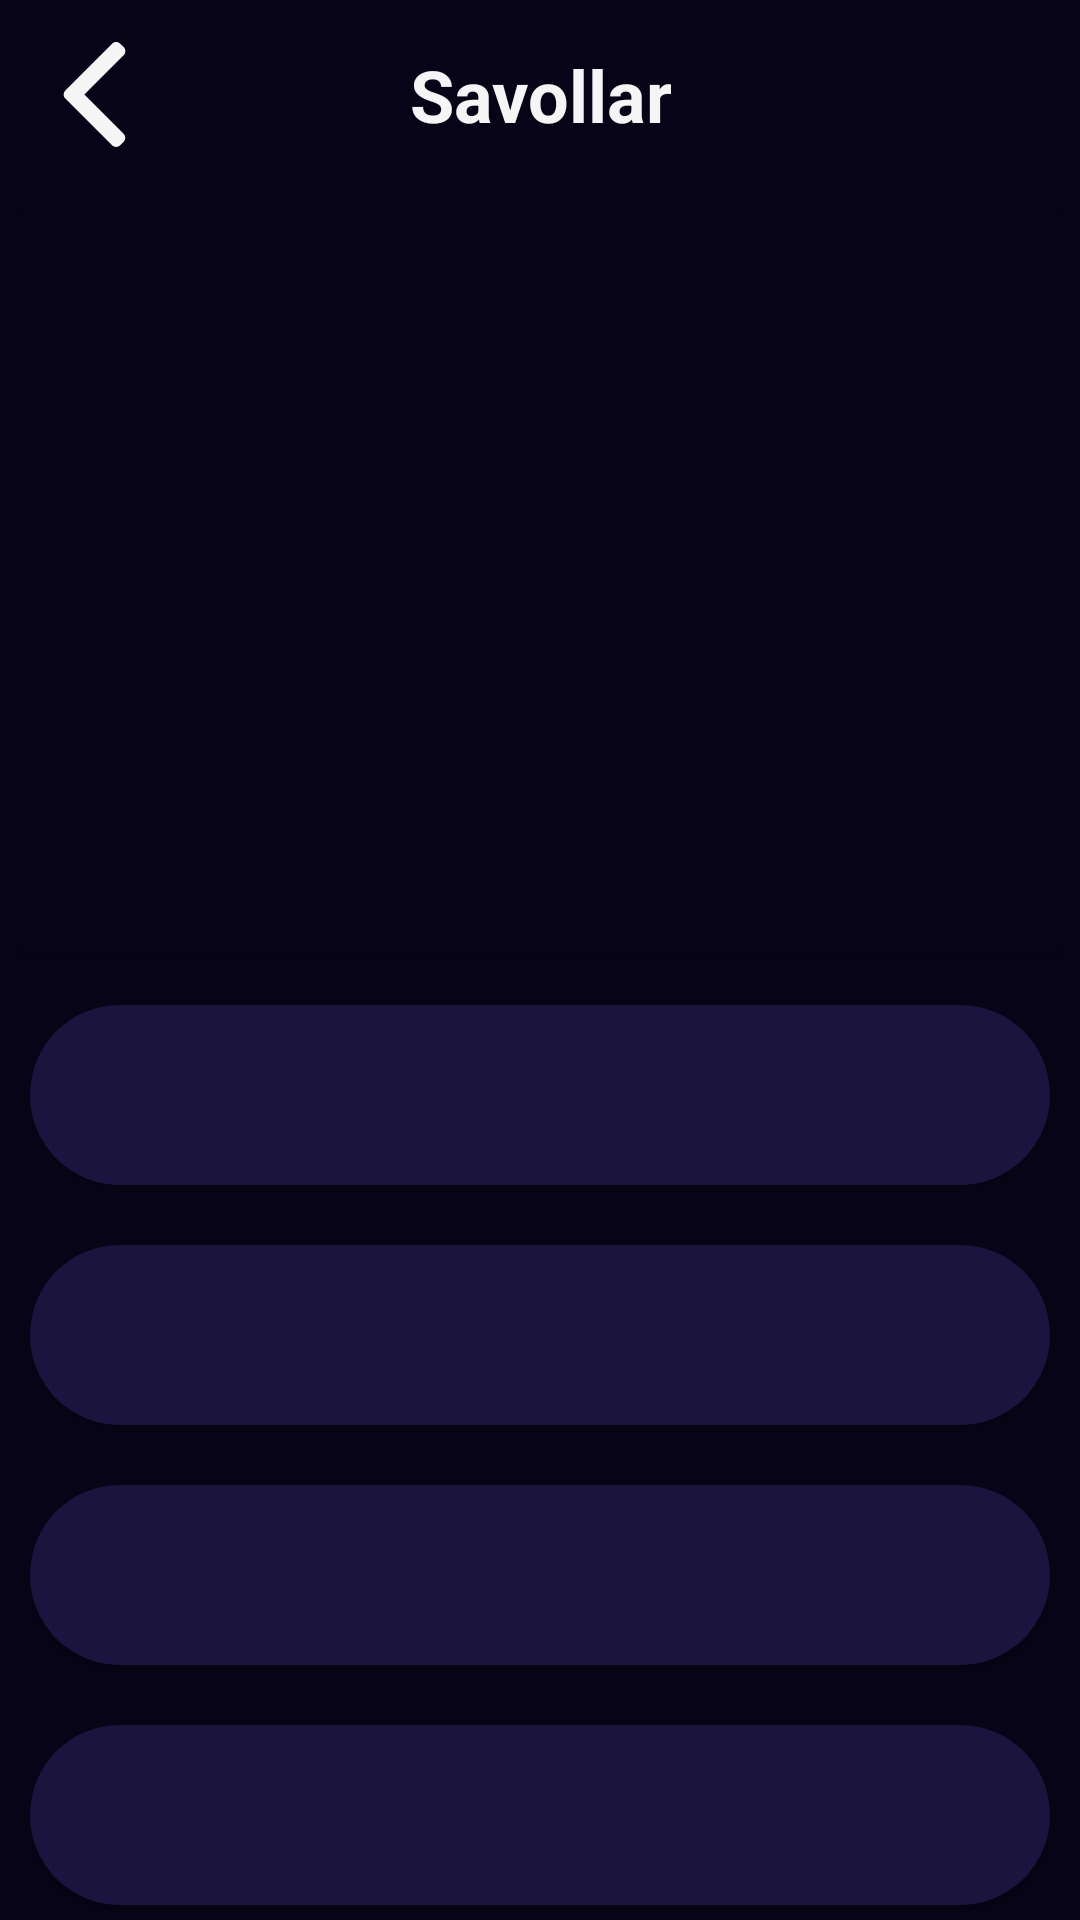

Icons on this 1080 × 1920 Android screen, each with the point to tap as (x,y):
left arrow: (94,94)
